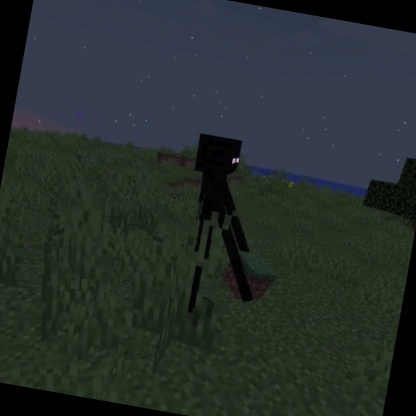enderman: (165, 129, 283, 327)
